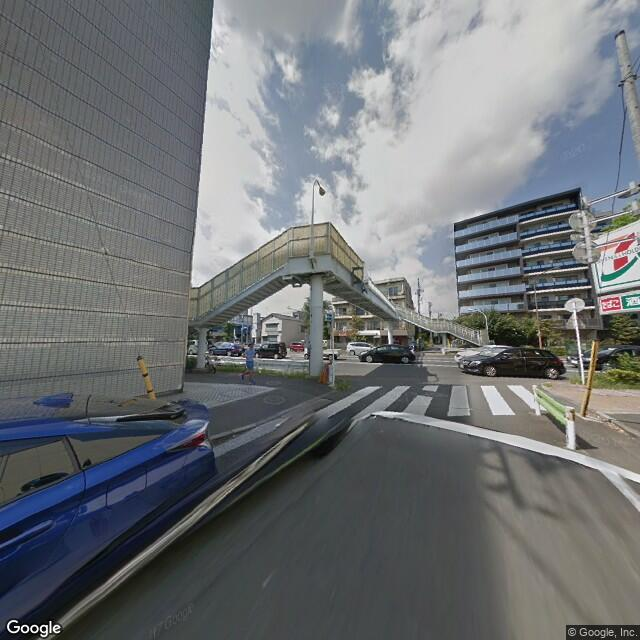7-eleven: (590, 219, 639, 303)
